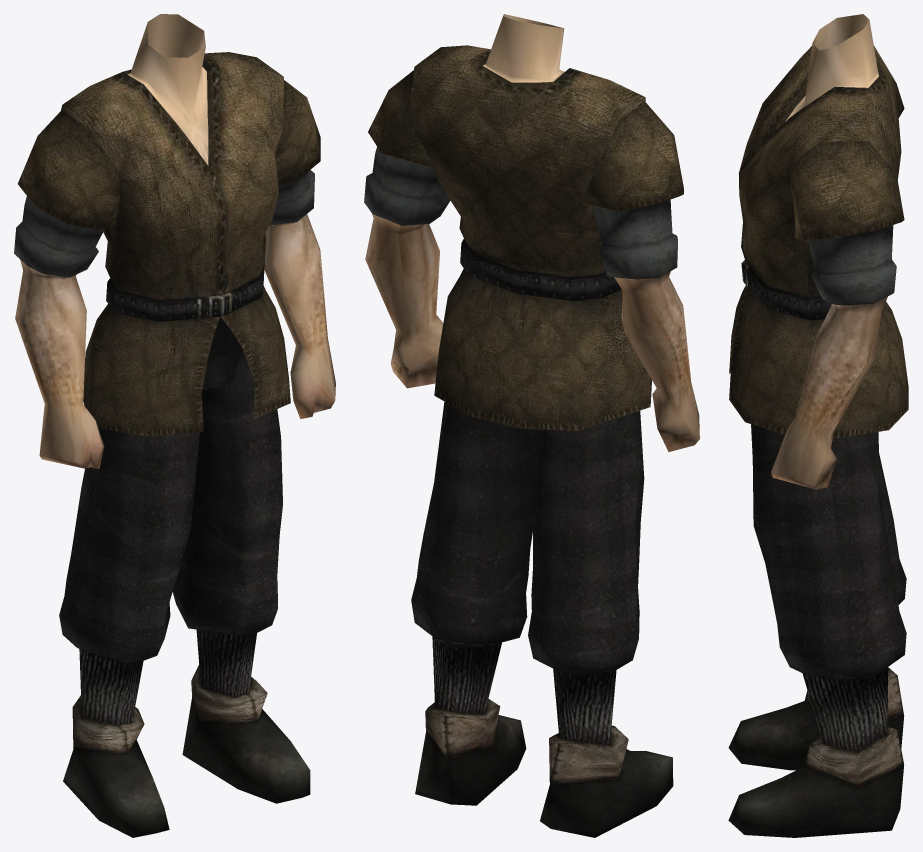
Rendered from KM_SAILOR_03.glb.
The picture shows the model from 3 angles, left to right: view 1: azimuth 30°, elevation 25°; view 2: azimuth 150°, elevation 25°; view 3: azimuth 270°, elevation 25°; orthographic projection. The views are drawn at different scales.
Visible parts, largest first — view 1: KM_SAILOR_03; view 2: KM_SAILOR_03; view 3: KM_SAILOR_03.
Boxes of the visible parts, <box> form: KM_SAILOR_03: <box>14,14,335,837</box>; KM_SAILOR_03: <box>364,14,699,837</box>; KM_SAILOR_03: <box>728,14,908,837</box>.
Size of the model in its own units: 0.6877 by 1.68 by 0.3553.
2 materials, 2 textured.
